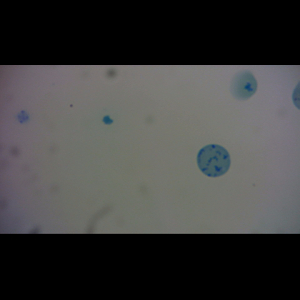aggregate reticulocyte: (197, 144, 231, 178)
erythrocyte: (229, 70, 258, 101)
